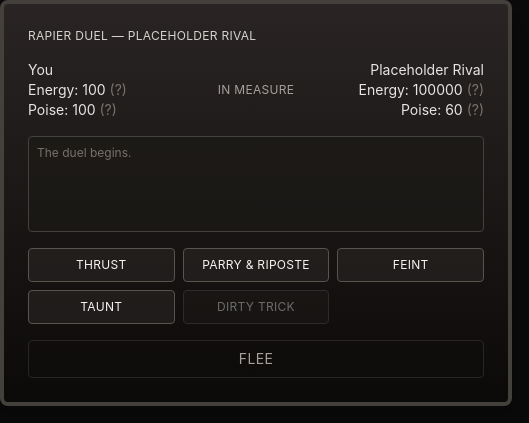
Test: DuelGame › Taunt drains bonus poise when the player's wagering-ring reputation meets the threshold
The width and height of the screenshot is (529, 423).
Step 1. Click the button "Taunt" → x=101, y=307, box [28,290,175,324]
Wait 1000 ms
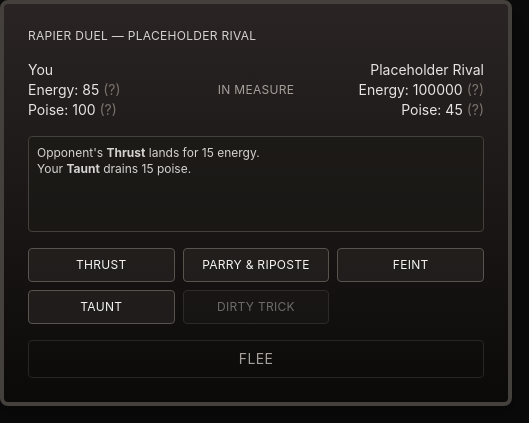
expect the text "Poise: 45" is shown: met, box [401,101,484,118]
